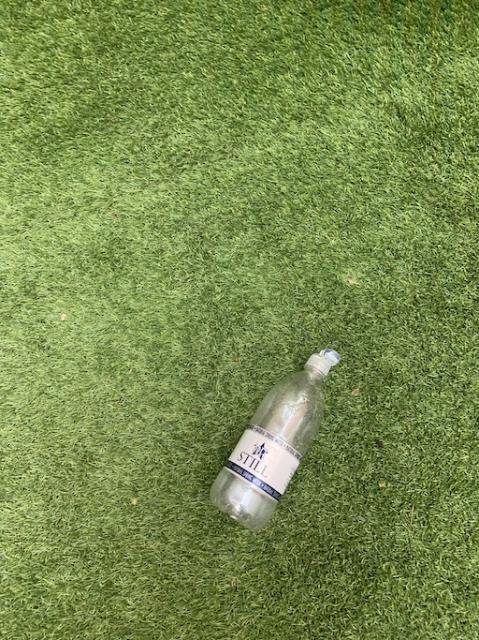plastic: (210, 348, 338, 528)
